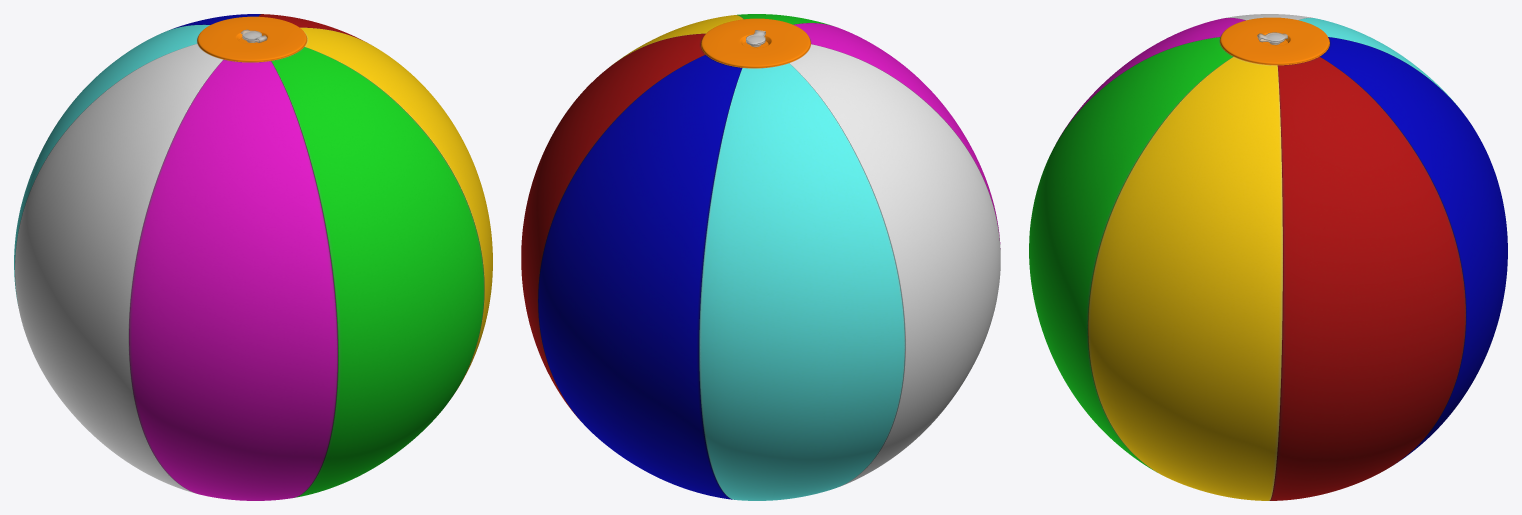
Rendered from ball_originZero.glb.
3 renders of one model, left to right at view 1: azimuth 30°, elevation 25°; view 2: azimuth 150°, elevation 25°; view 3: azimuth 270°, elevation 25°, orthographic.
Visible parts, largest first — view 1: Beach_Ball.1; view 2: Beach_Ball.1; view 3: Beach_Ball.1.
Part boxes in pixels (bbox=[...]): Beach_Ball.1: bbox=[14, 14, 492, 500]; Beach_Ball.1: bbox=[521, 14, 1000, 500]; Beach_Ball.1: bbox=[1029, 14, 1507, 500].
Bounding box in the file's own units: 30.48 × 31.03 × 30.45.
2 materials, 1 textured.
